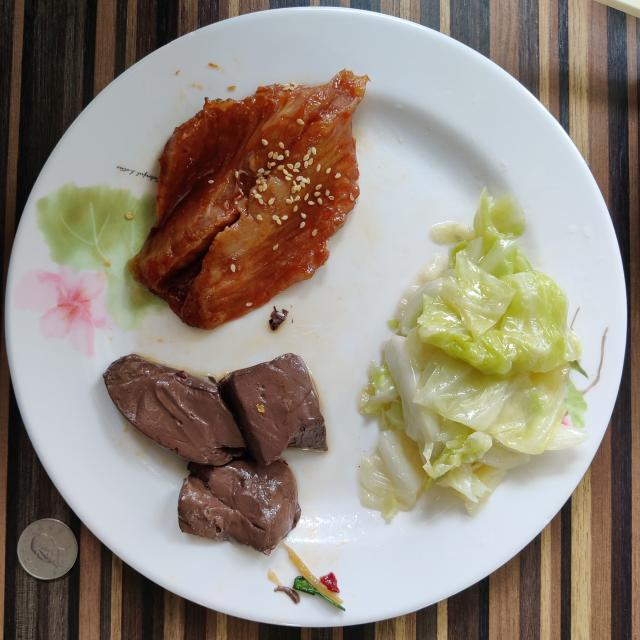Kabayaki sea bream fillet: (128, 70, 368, 329)
cabbage: (359, 190, 586, 519)
coin: (18, 519, 78, 580)
pig blood curd: (104, 354, 328, 554)
